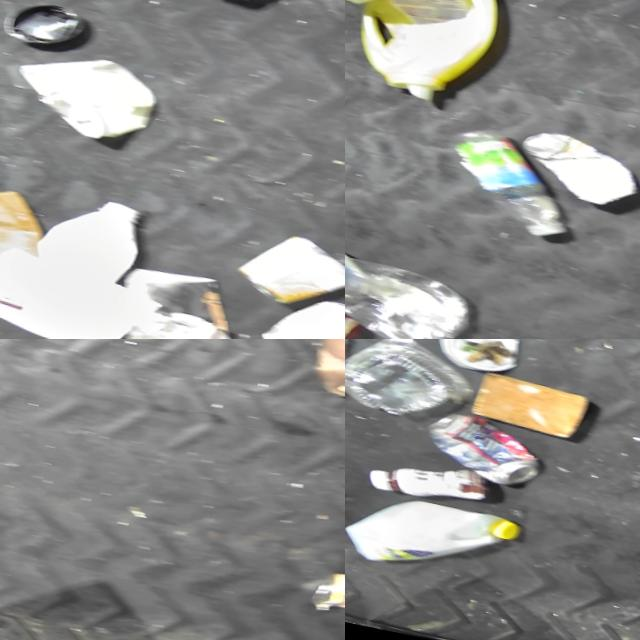can: (506, 122, 640, 220), (412, 404, 548, 498), (225, 222, 345, 326), (299, 566, 345, 632)
milk_jug: (345, 479, 520, 596), (345, 0, 480, 30)
non_white_jug: (345, 0, 512, 115)
plastic_bottle: (425, 114, 590, 251), (345, 223, 476, 339)
